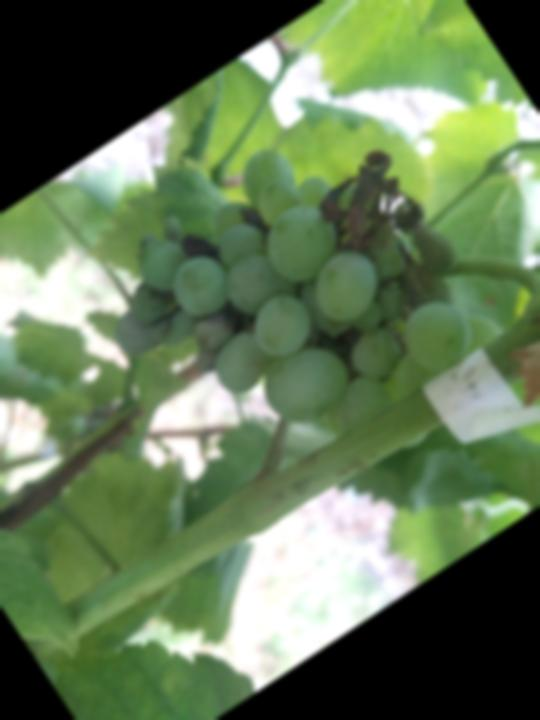grape: (66, 82, 513, 514)
